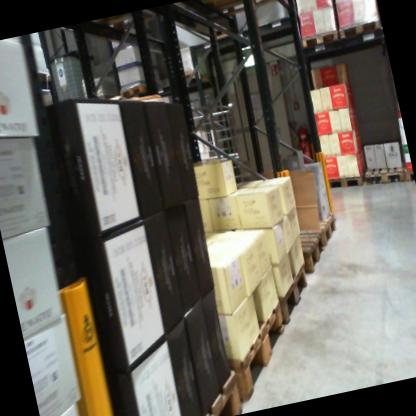pallet: (213, 291, 302, 405), (265, 249, 325, 330), (176, 0, 304, 34), (180, 363, 250, 416), (286, 219, 333, 276), (357, 149, 408, 190), (299, 206, 343, 253), (182, 19, 237, 53), (323, 161, 372, 197), (331, 15, 383, 41), (115, 75, 156, 105), (297, 28, 341, 54), (185, 62, 214, 83), (404, 165, 415, 187)
